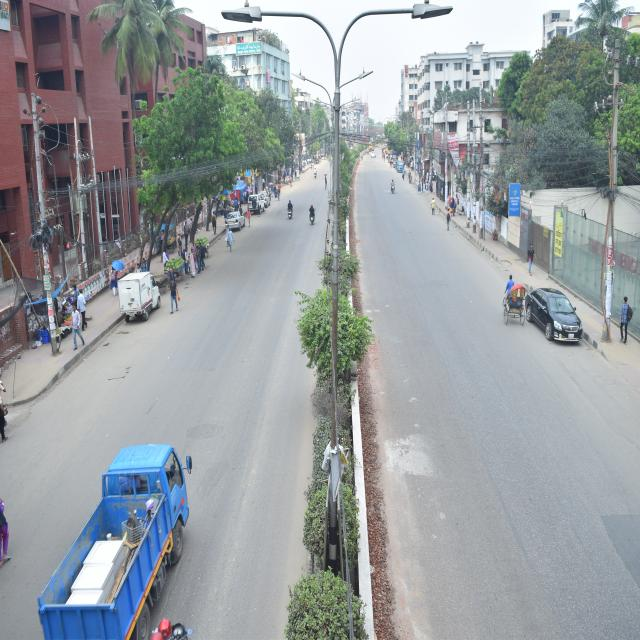car: (511, 258, 591, 379), (244, 176, 282, 225), (222, 204, 251, 238), (367, 148, 385, 166)
motorbike: (123, 610, 210, 640), (384, 172, 412, 223), (304, 196, 325, 246), (306, 159, 322, 188), (284, 192, 293, 240)
pickup-van: (112, 253, 184, 344)
truck: (10, 417, 213, 640)
